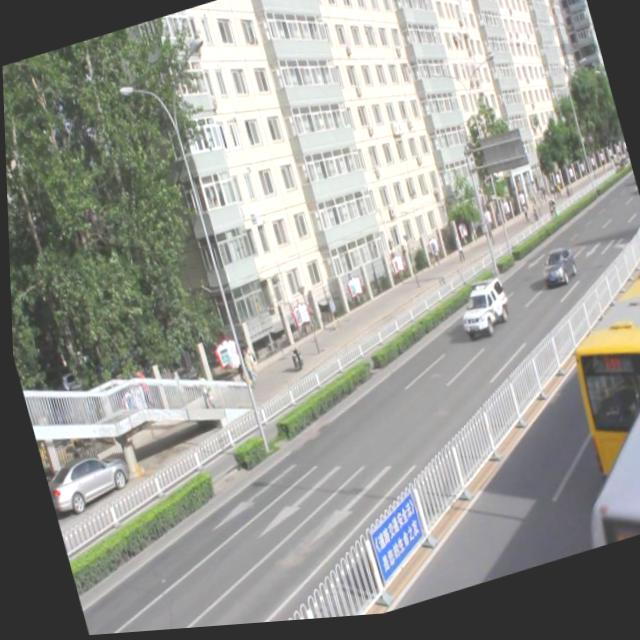car: (448, 280, 508, 343), (533, 252, 572, 294)
van: (541, 347, 640, 559), (552, 277, 640, 474)
